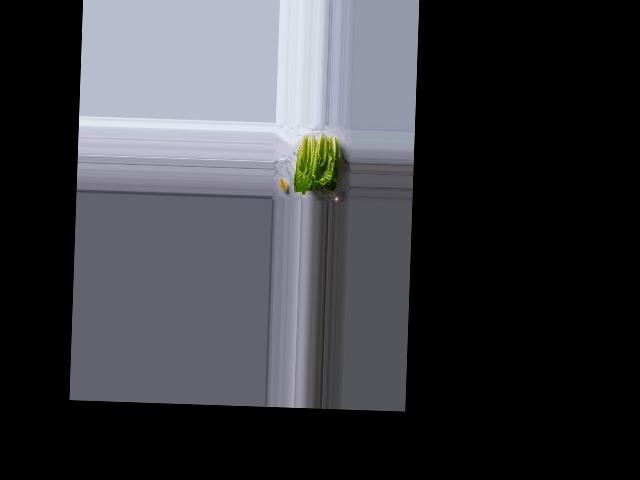lettuce: (291, 133, 342, 196)
